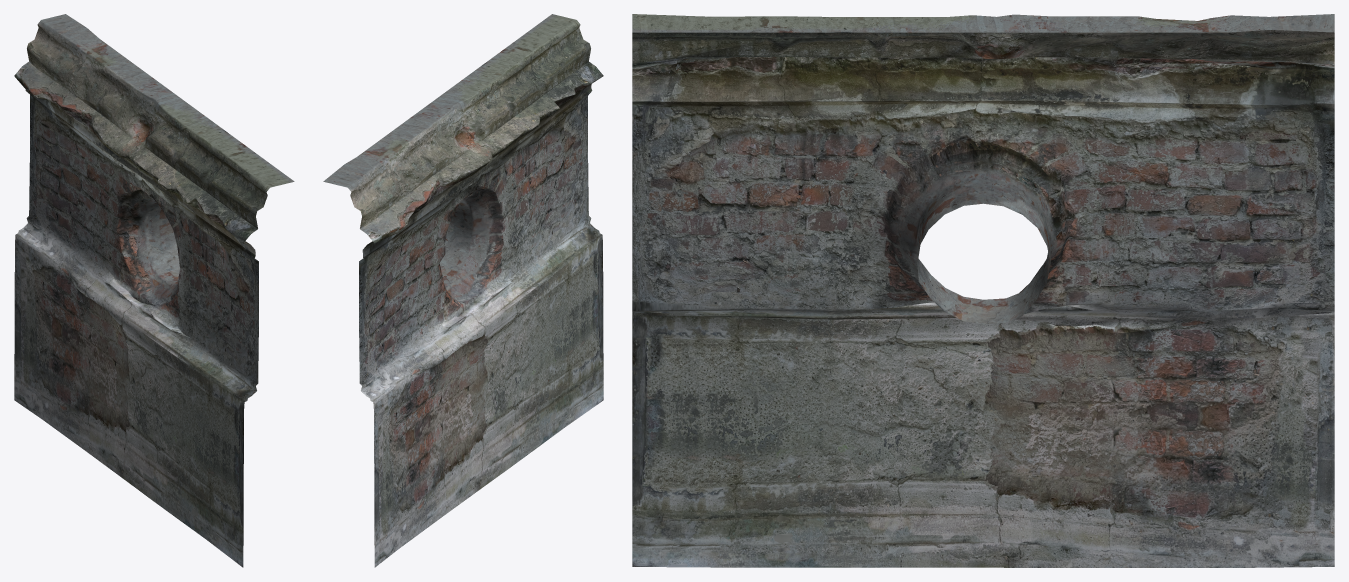
File: sm_ChapelWall_02_03_OneSide.fbx
3 renders of one model, left to right at view 1: azimuth 30°, elevation 25°; view 2: azimuth 150°, elevation 25°; view 3: azimuth 270°, elevation 25°, orthographic. The views are drawn at different scales.
Parts seen in each view (by area): view 1: sm_ChapelWall_02_03_OneSide_LOD0; view 2: sm_ChapelWall_02_03_OneSide_LOD0; view 3: sm_ChapelWall_02_03_OneSide_LOD0.
Part boxes in pixels (x1,y1,x2,y2): sm_ChapelWall_02_03_OneSide_LOD0: [14, 14, 294, 567]; sm_ChapelWall_02_03_OneSide_LOD0: [323, 14, 603, 567]; sm_ChapelWall_02_03_OneSide_LOD0: [632, 14, 1334, 567].
Bounding box in the file's own units: 49.34 × 250 × 226.
